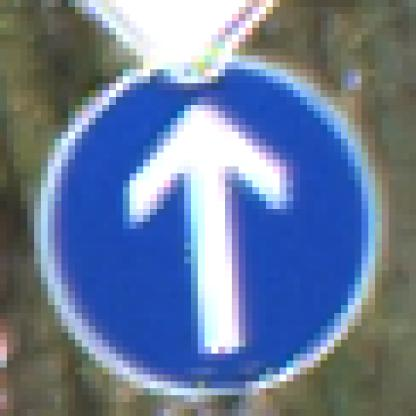AheadOnly: (42, 43, 376, 376)
